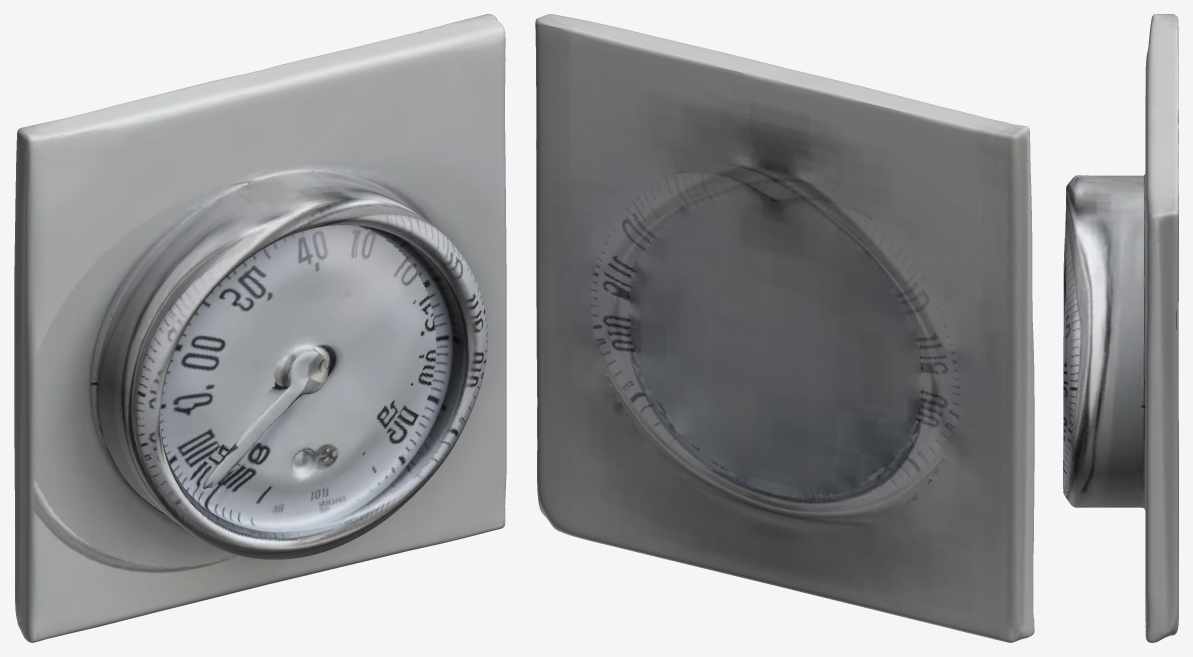
File: cold-room-thermometer.glb
3 renders of one model, left to right at view 1: azimuth 30°, elevation 25°; view 2: azimuth 150°, elevation 25°; view 3: azimuth 270°, elevation 25°, orthographic. The views are drawn at different scales.
Visible parts, largest first — view 1: cowninja-cold-room-thermometer; view 2: cowninja-cold-room-thermometer; view 3: cowninja-cold-room-thermometer.
Part boxes in pixels (x1,y1,x2,y2): cowninja-cold-room-thermometer: (14, 14, 506, 642); cowninja-cold-room-thermometer: (535, 14, 1034, 642); cowninja-cold-room-thermometer: (1063, 14, 1178, 642).
Bounding box in the file's own units: 0.2 × 0.2009 × 0.0487.
1 material, 1 textured.
